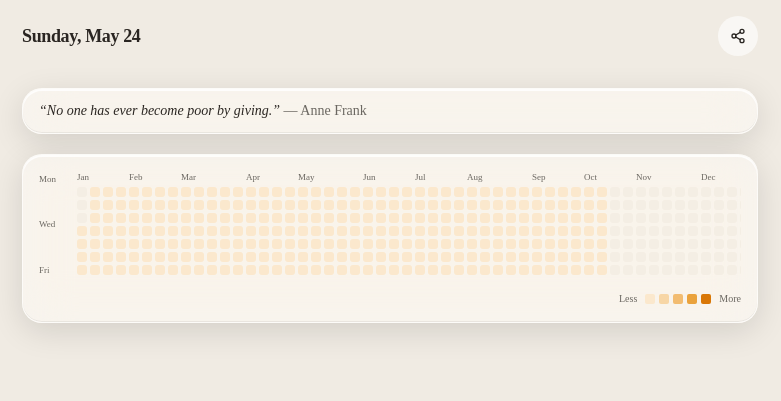
NoteScreen › share status (R3.4) › reports a copied link
Click the button named "share this day" at coordinates (738, 36), box [718, 16, 758, 56]
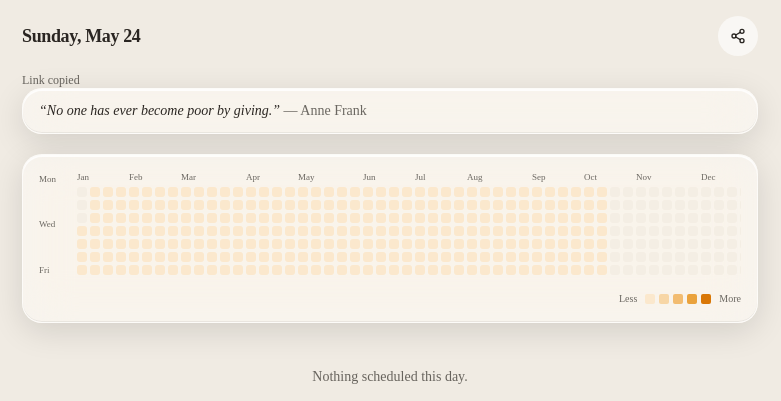
Now the text "Link copied" is shown, box [22, 73, 80, 87]
